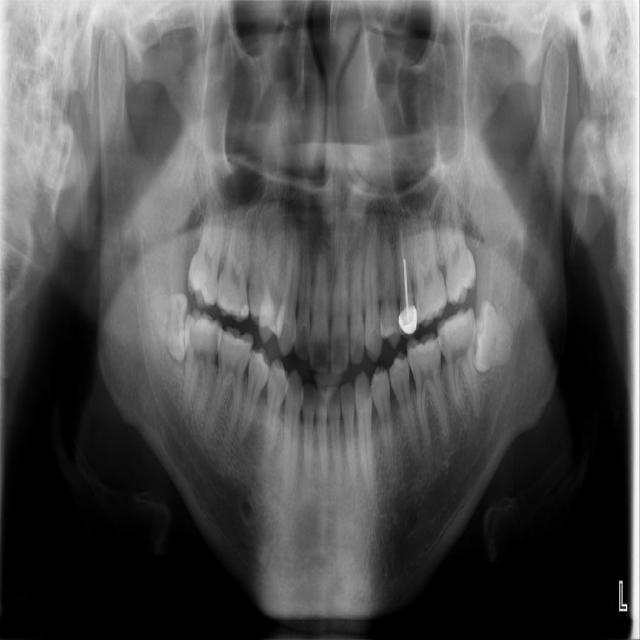52: (398, 306, 418, 339)
73: (394, 222, 416, 315), (620, 618, 630, 624)
BioHorizons Implant: (434, 171, 478, 304)
Biomet 3i Implant: (462, 298, 523, 379)
Blue Sky Bio Implant: (435, 306, 485, 427)
Caries: (184, 185, 233, 309)
Implant: (171, 308, 226, 421)
Keystone Dental Implant: (148, 294, 190, 362)
